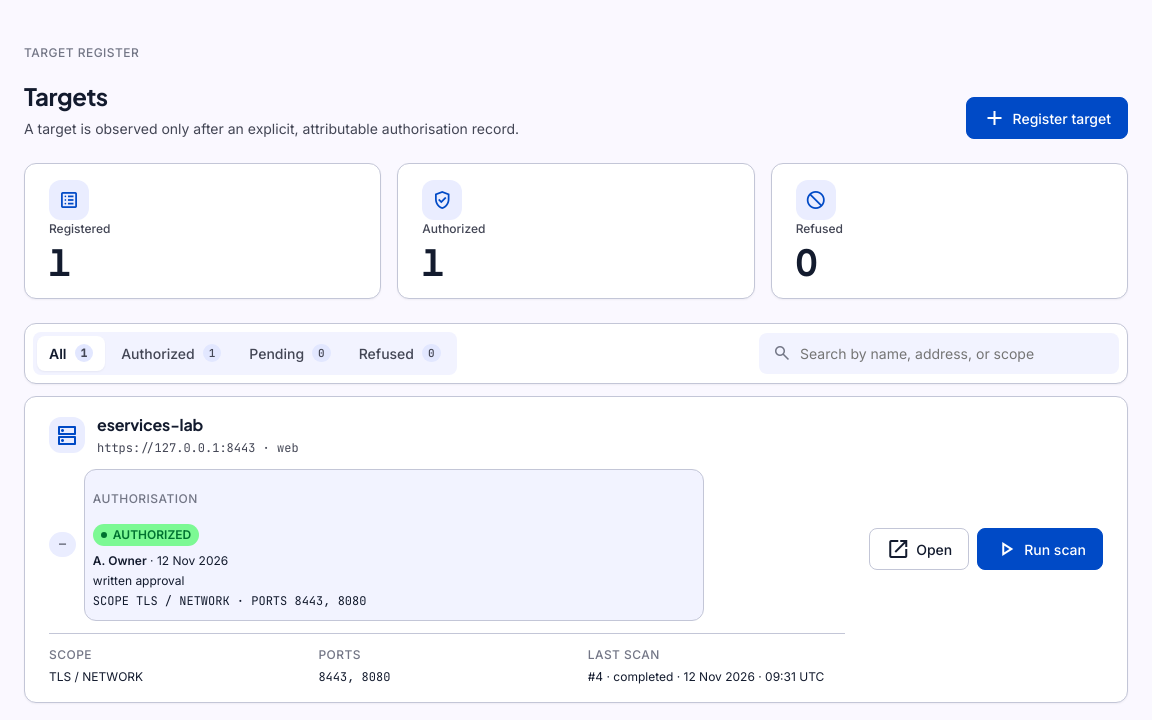
Test: Targets › distinguishes a filtered-empty register from an empty register
Step 1. Click the button "Refused 0" → (400, 353), box [347,336,453,371]
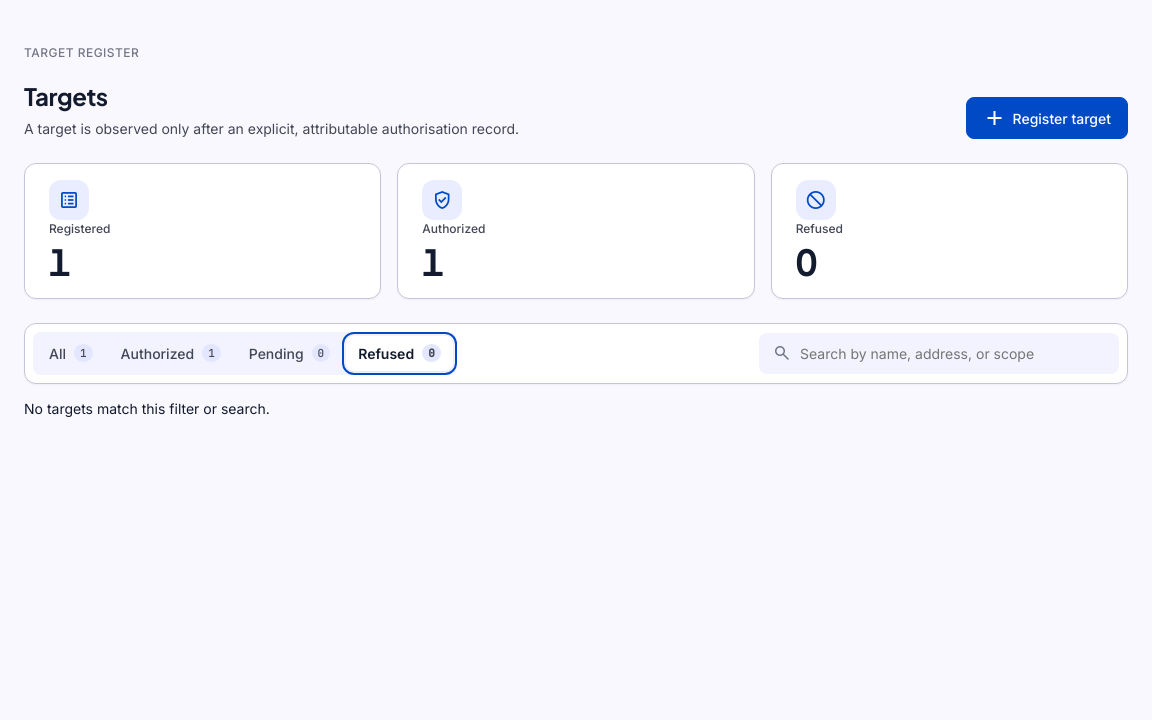
Check: the button "eservices-lab" is gone
Check: the message shows "No targets match", box [24,400,270,417]
